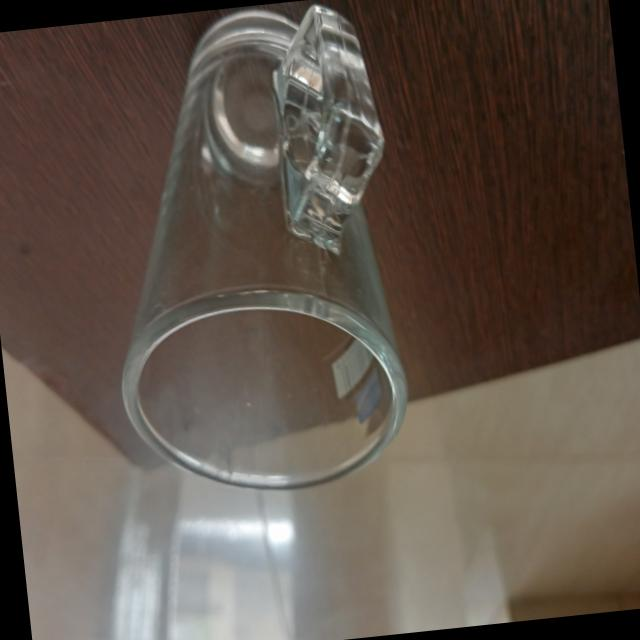glass-VX4N: (83, 0, 419, 506)
